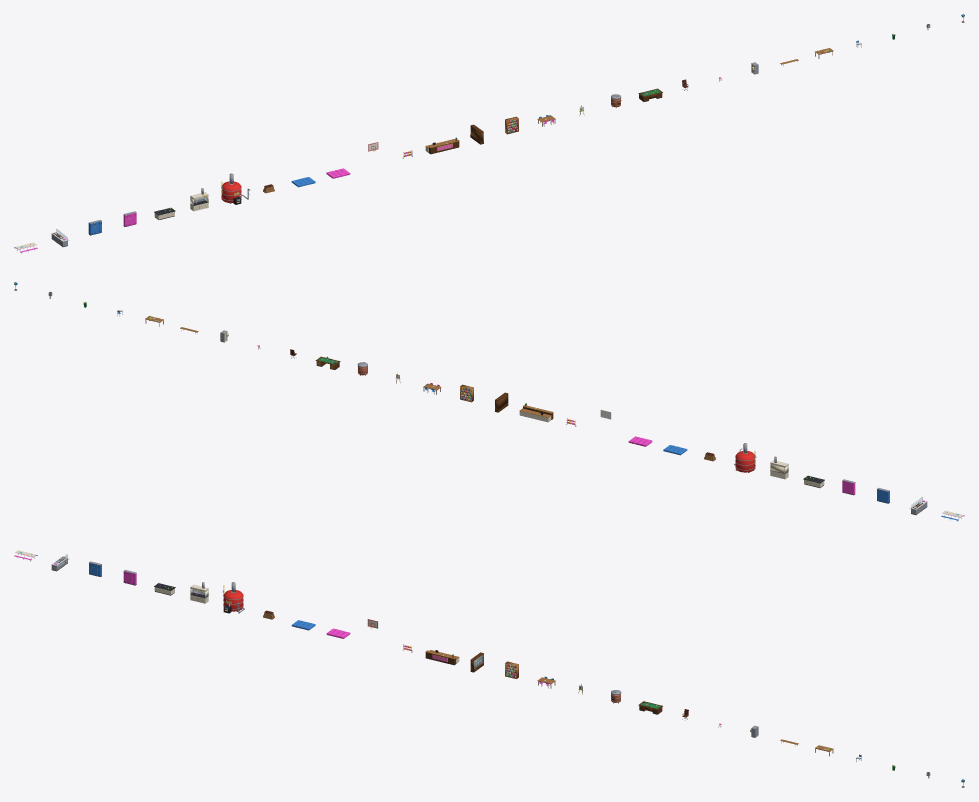
Rendered from p_schoolkit.glb.
The picture shows the model from 3 angles, top to bottom: view 1: azimuth 30°, elevation 25°; view 2: azimuth 150°, elevation 25°; view 3: azimuth 330°, elevation 25°; orthographic projection.
Parts seen in each view (by area): view 1: boiler; view 2: no part large enough to name; view 3: no part large enough to name.
Boxes of the visible parts, left/top/right/bottom form: boiler: left=221, top=173, right=250, bottom=204.
Bounding box in the file's own units: 164 × 4.16 × 3.71.
42 materials, 17 textured.
